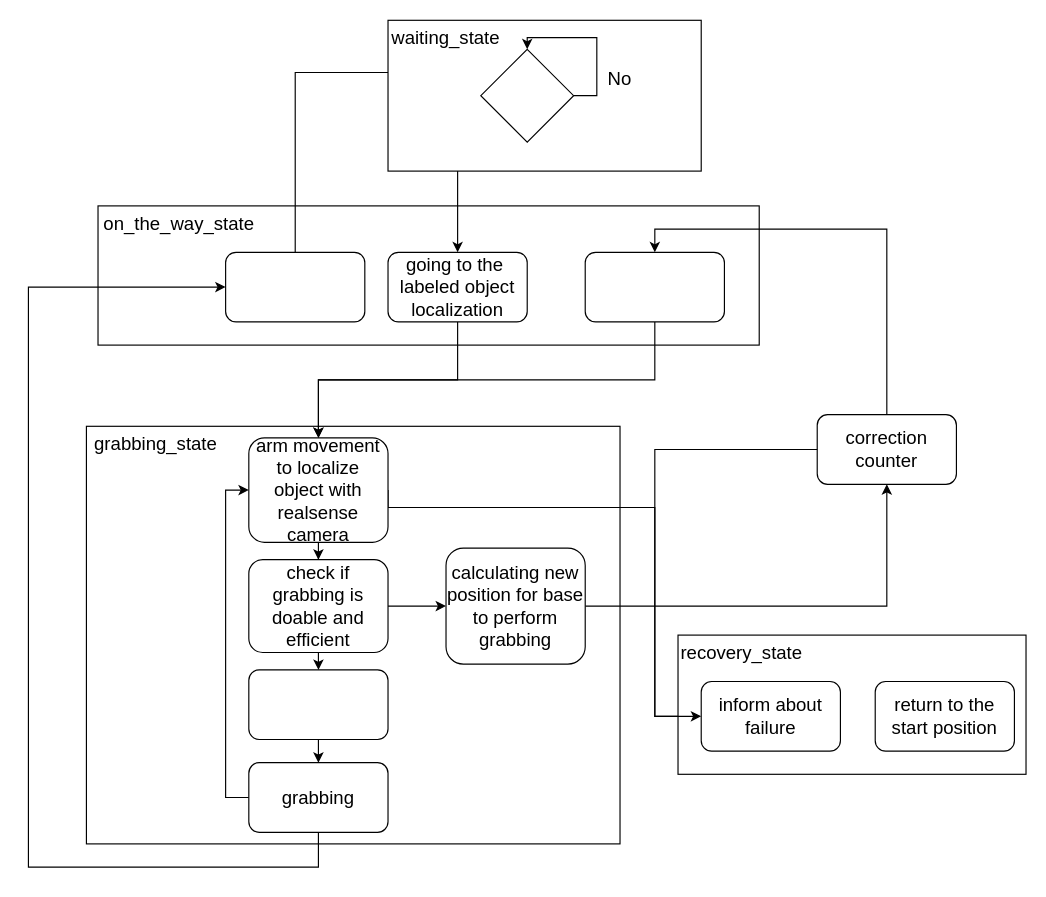
The diagram is 1046 pixels wide and 897 high, and some of its shapes have lost their labels. Here are the shapes that lost their labels. From the top down, the centre of each, then its label:
At point (527, 95): "set task?".
At point (294, 286): "going to goal position".
At point (654, 286): "going to the corrected position".
At point (318, 704): "calculate the grip point".
